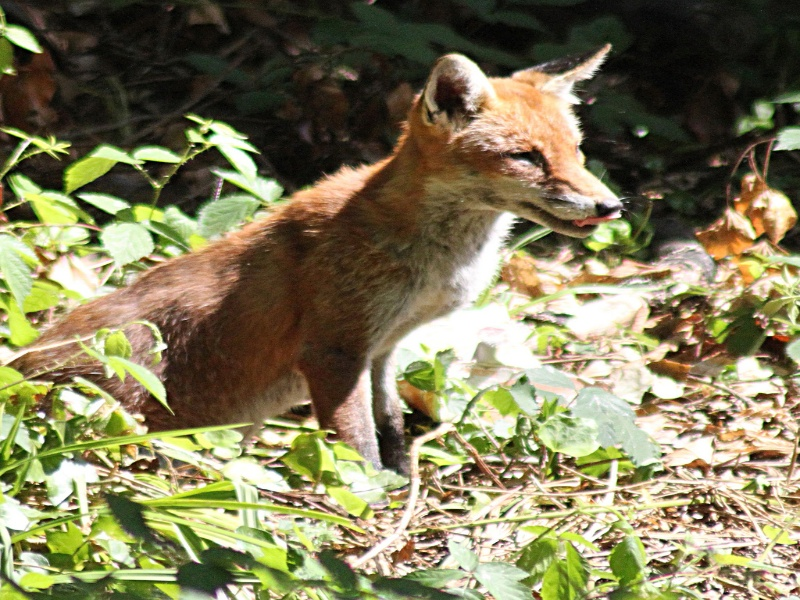fox: (21, 37, 628, 472)
